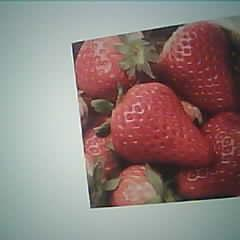straw-ripe: (111, 83, 211, 166), (157, 22, 239, 110)
